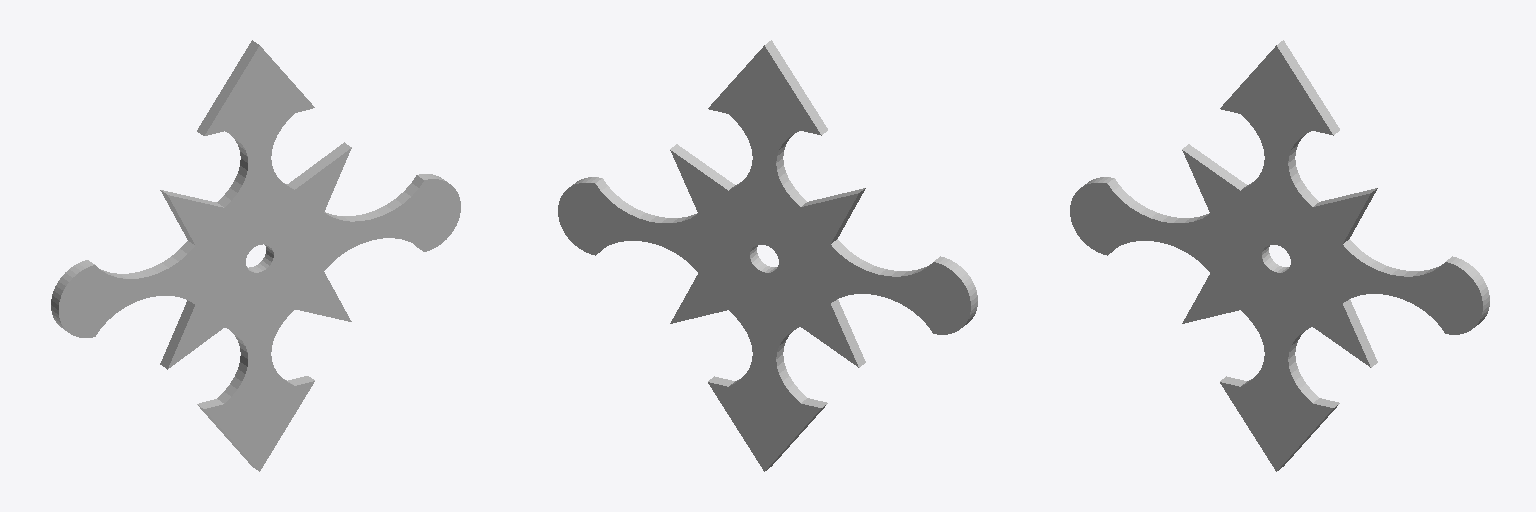
The model's file is Ninja star.obj.
3 renders of one model, left to right at view 1: azimuth 30°, elevation 25°; view 2: azimuth 150°, elevation 25°; view 3: azimuth 330°, elevation 25°, orthographic.
Visible parts, largest first — view 1: Mesh1 Component_12_1 Model; view 2: Mesh1 Component_12_1 Model; view 3: Mesh1 Component_12_1 Model.
Part boxes in pixels (left/top/right/bottom): Mesh1 Component_12_1 Model: left=51, top=40, right=460, bottom=471; Mesh1 Component_12_1 Model: left=558, top=40, right=977, bottom=471; Mesh1 Component_12_1 Model: left=1070, top=40, right=1489, bottom=471.
Bounding box in the file's own units: 0.6531 × 0.6528 × 0.0352.